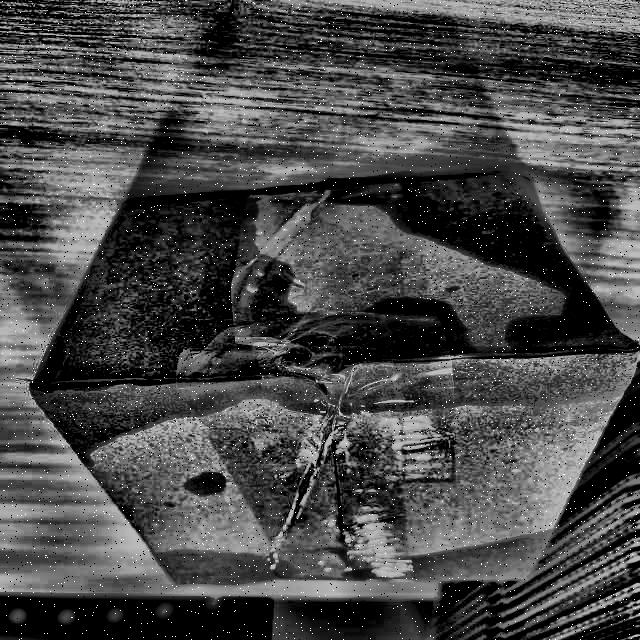box: (25, 164, 639, 595)
wet: (33, 194, 246, 393), (284, 328, 637, 434), (374, 169, 586, 293), (157, 537, 545, 580)
